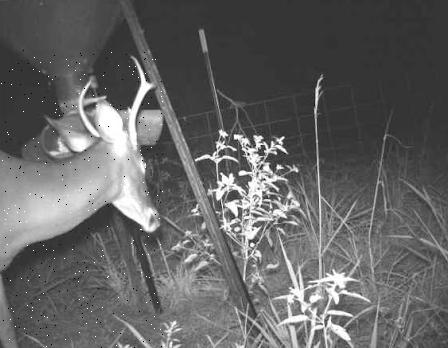Deer: (0, 50, 163, 348)
